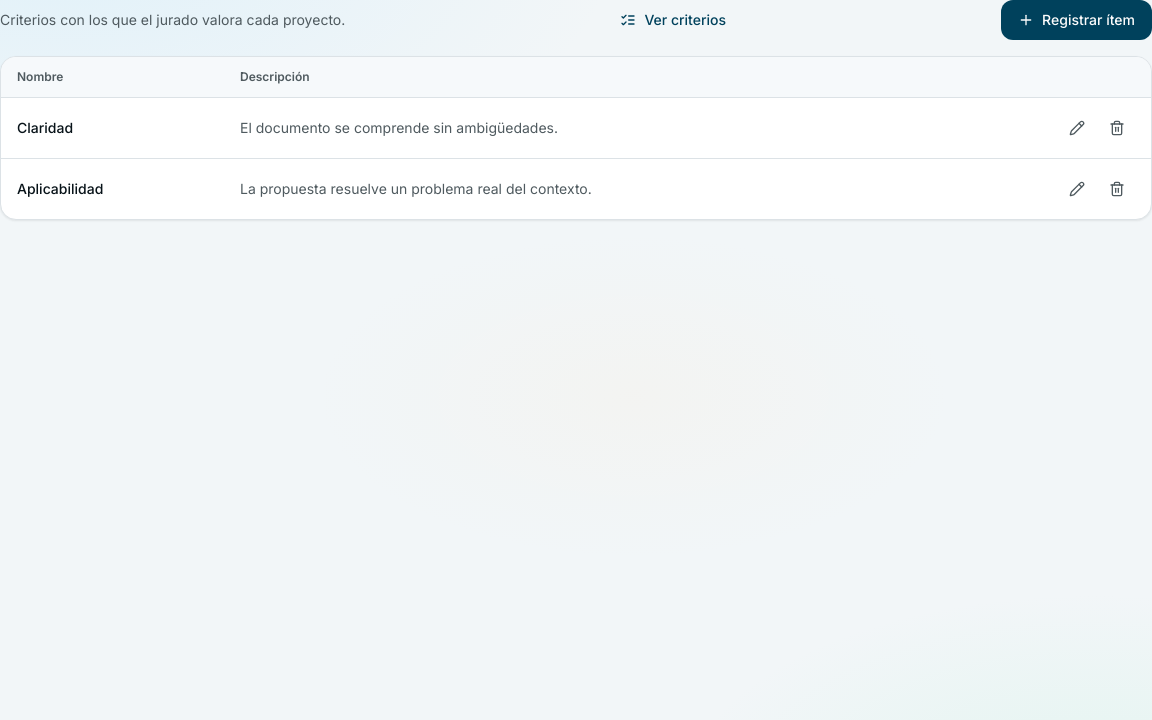
Test: ItemsCualitativosJuradoView › el administrador ve un lápiz por ítem, abre el panel de edición y lo cierra
Click the button named "Editar ítem Claridad" at (1077, 128), box x1=1059 y1=110 x2=1095 y2=146
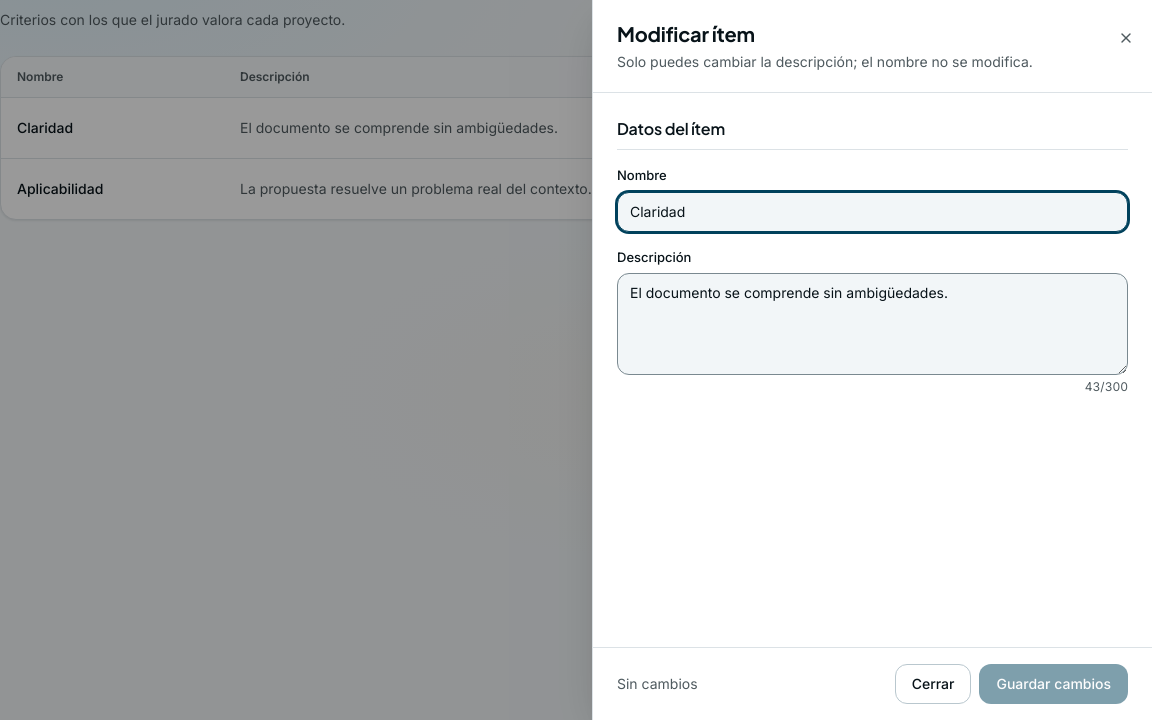
Expected: the field labelled "Nombre" holds "Claridad", x1=617 y1=192 x2=1128 y2=232
Expected: the text box labelled "Descripción" holds "El documento se comprende sin ambigüedades.", x1=617 y1=273 x2=1128 y2=375
Expected: the dialog is shown, x1=592 y1=0 x2=1151 y2=719
Click the button "Cerrar" at (933, 684), box x1=895 y1=664 x2=972 y2=704
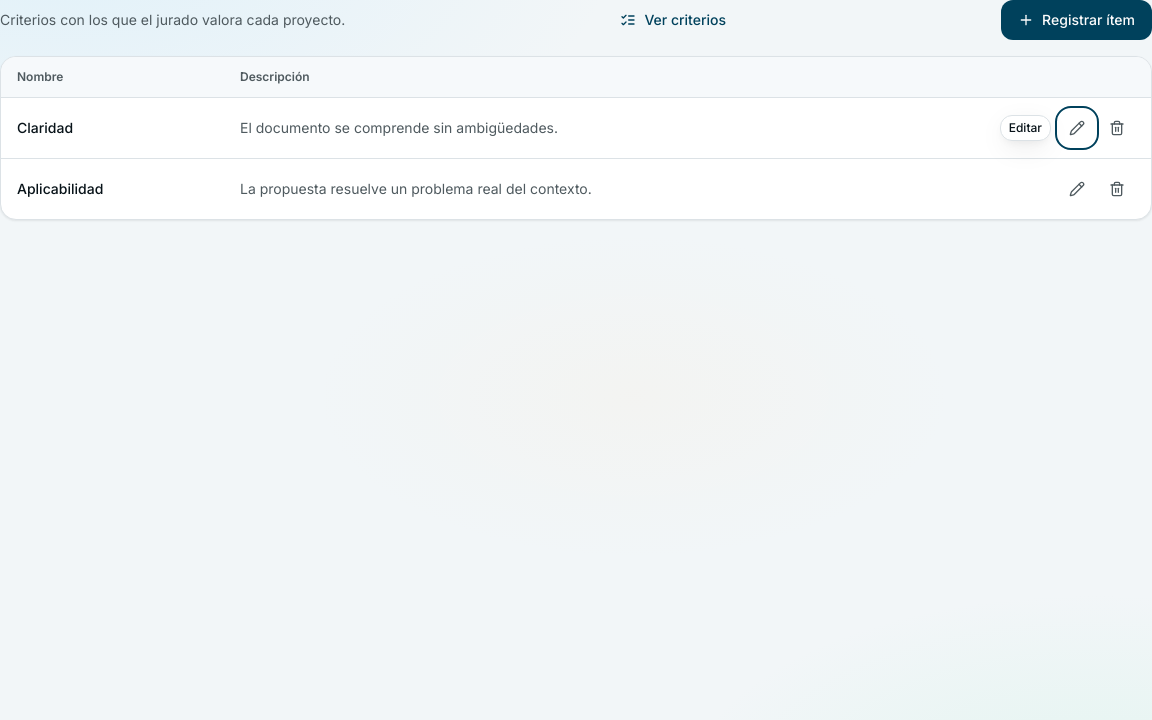
Expected: the dialog is gone
